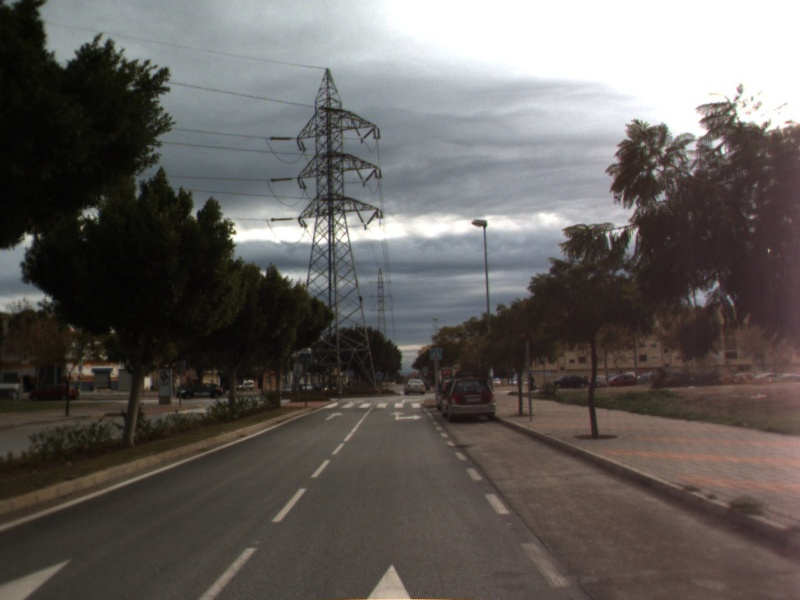STRAIGHT: (322, 410, 345, 422)
STRAIGHT_RIGHT: (388, 410, 424, 422)
